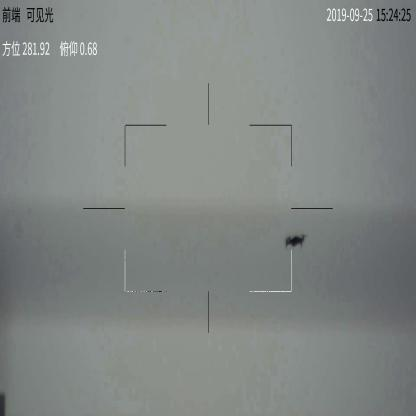uav: (282, 233, 304, 249)
